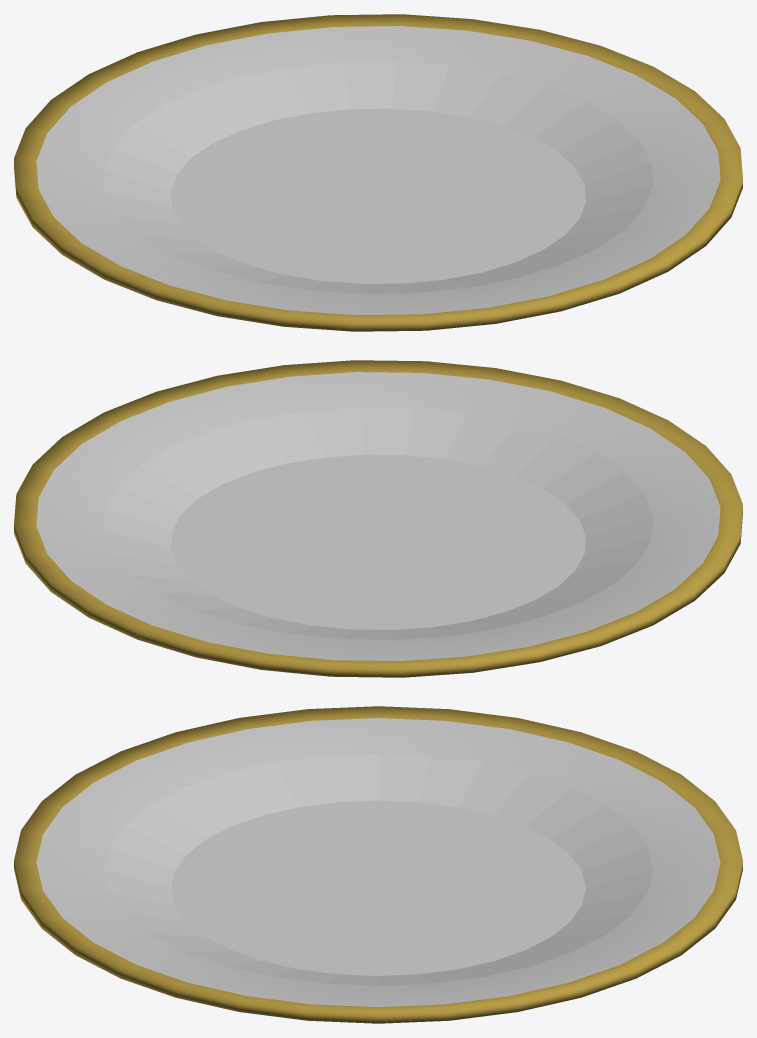
Rendered from RoundPlate1.fbx.
The picture shows the model from 3 angles, top to bottom: view 1: azimuth 30°, elevation 25°; view 2: azimuth 150°, elevation 25°; view 3: azimuth 270°, elevation 25°; orthographic projection.
Parts seen in each view (by area): view 1: Cylinder; view 2: Cylinder; view 3: Cylinder.
Boxes of the visible parts, x1,y1,x2,y2 form: Cylinder: (14,14,742,331); Cylinder: (14,360,742,677); Cylinder: (14,706,742,1023).
Bounding box in the file's own units: 70 × 5 × 70.
